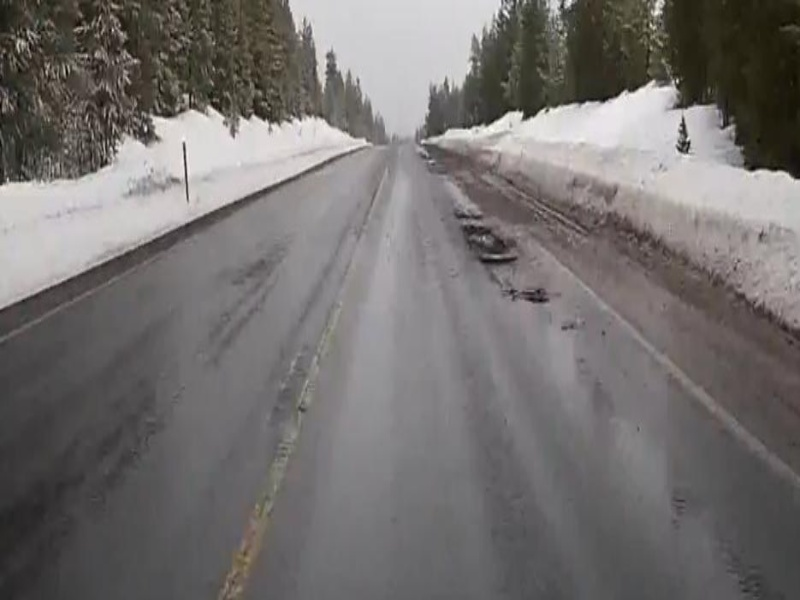pothole: (458, 220, 520, 270)
